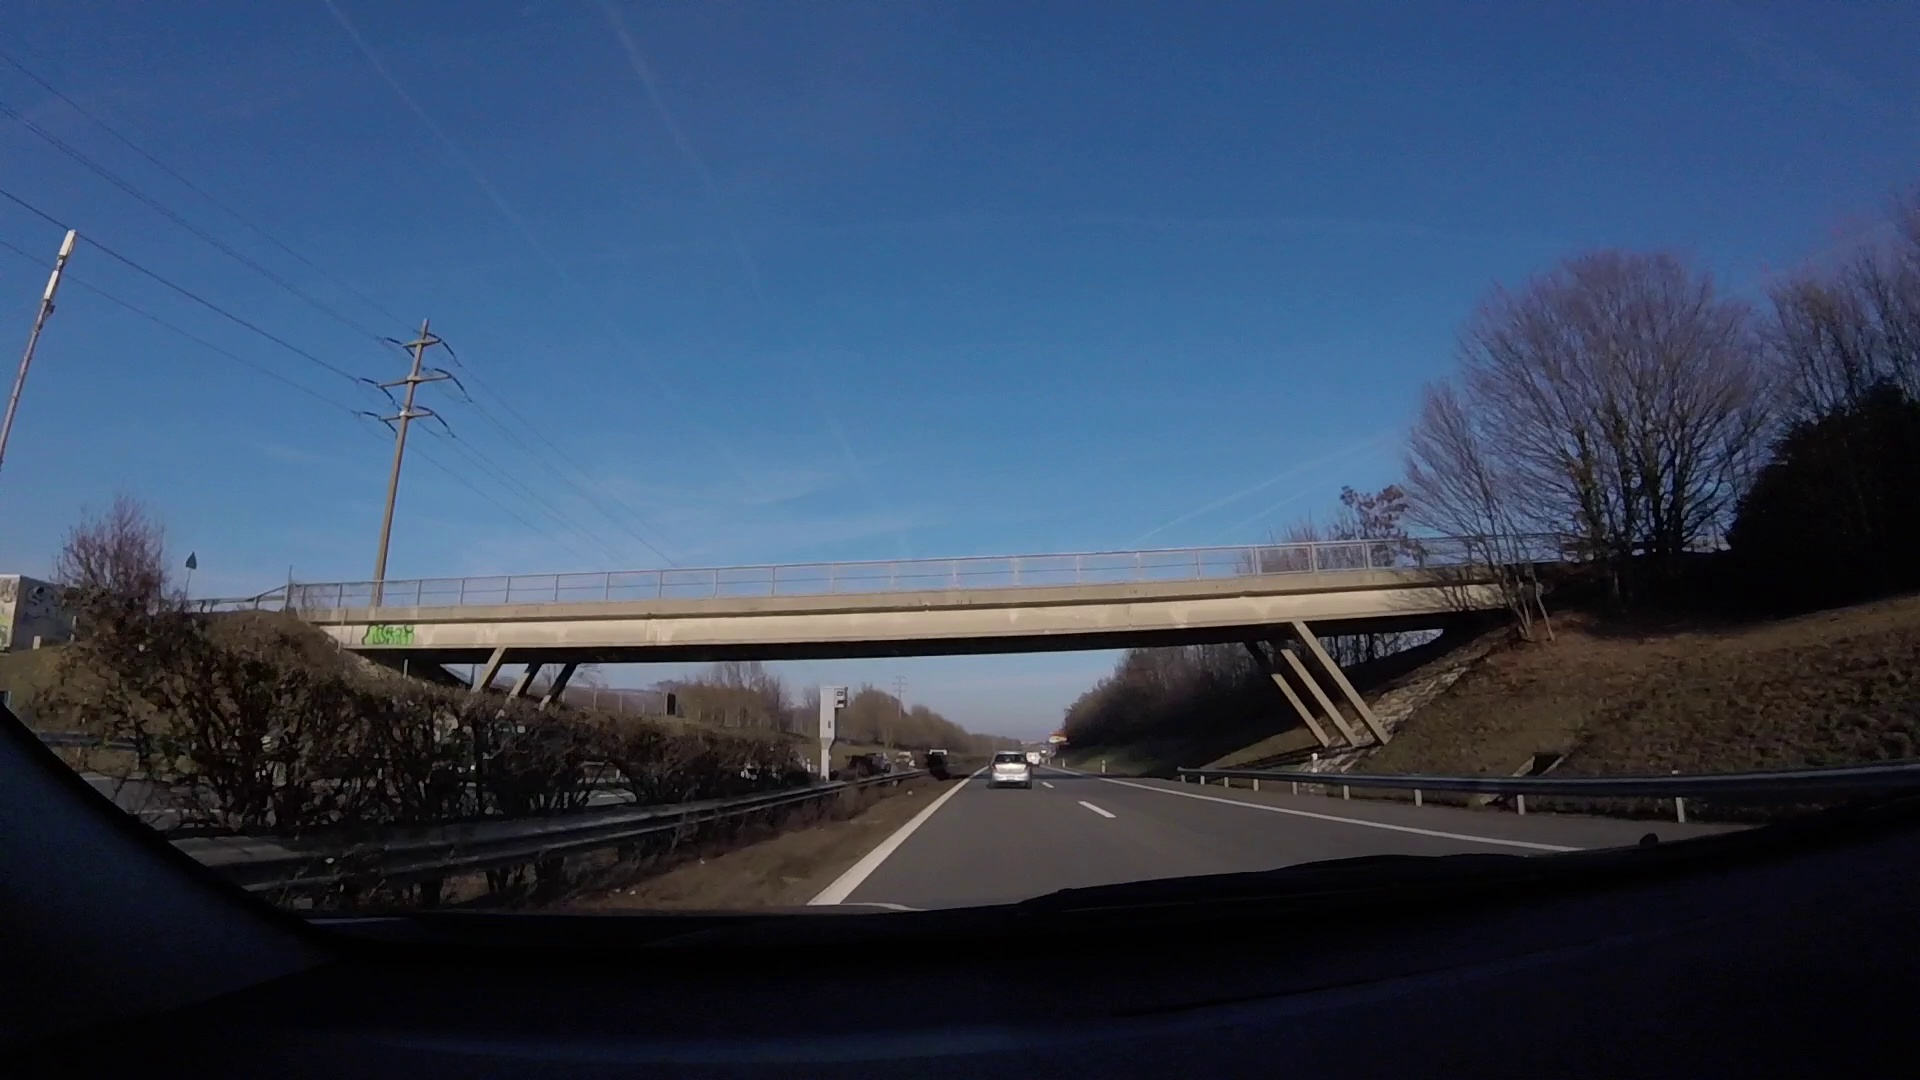radar: (818, 683, 852, 790)
